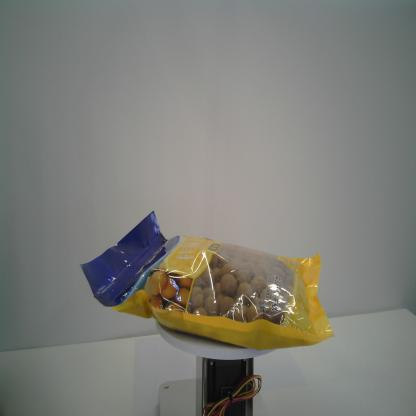Dried Food: (80, 210, 336, 352)
